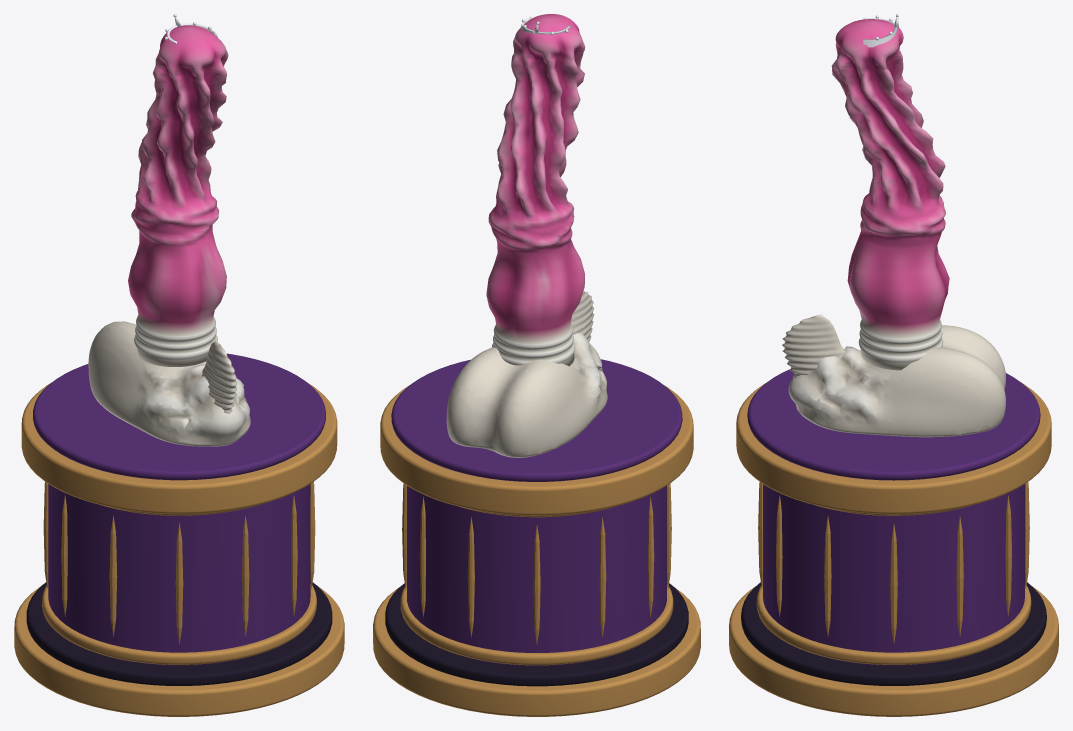
The model's file is queen.glb.
3 renders of one model, left to right at view 1: azimuth 30°, elevation 25°; view 2: azimuth 150°, elevation 25°; view 3: azimuth 270°, elevation 25°, orthographic.
Visible parts, largest first — view 1: casino_pedestal, queen_original_queen; view 2: casino_pedestal, queen_original_queen; view 3: casino_pedestal, queen_original_queen.
Part boxes in pixels (left/top/right/bottom): casino_pedestal: left=14, top=353, right=344, bottom=716; queen_original_queen: left=88, top=25, right=250, bottom=446; casino_pedestal: left=373, top=359, right=700, bottom=716; queen_original_queen: left=446, top=14, right=607, bottom=457; casino_pedestal: left=729, top=369, right=1058, bottom=716; queen_original_queen: left=782, top=19, right=1005, bottom=437.
Size of the model in its own units: 0.68 by 1.44 by 0.68.
